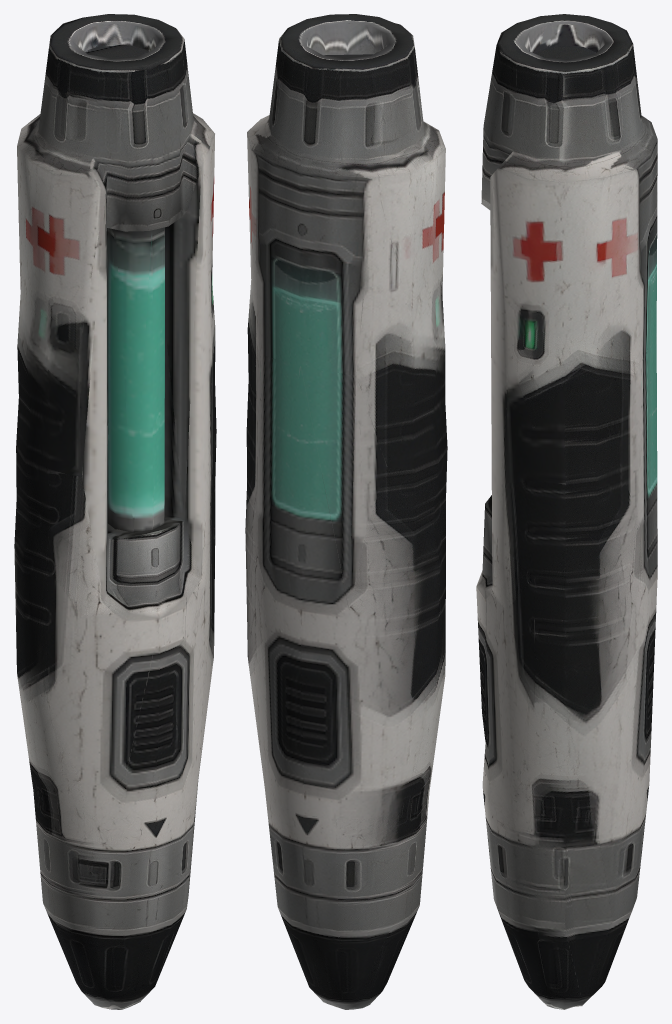
Rendered from stim-original.glb.
The picture shows the model from 3 angles, left to right: view 1: azimuth 30°, elevation 25°; view 2: azimuth 150°, elevation 25°; view 3: azimuth 270°, elevation 25°; orthographic projection.
Bounding box in the file's own units: 0.2017 × 1 × 0.1714.
1 material, 1 textured.
